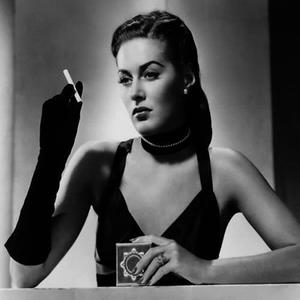cigarette: (62, 68, 84, 105)
